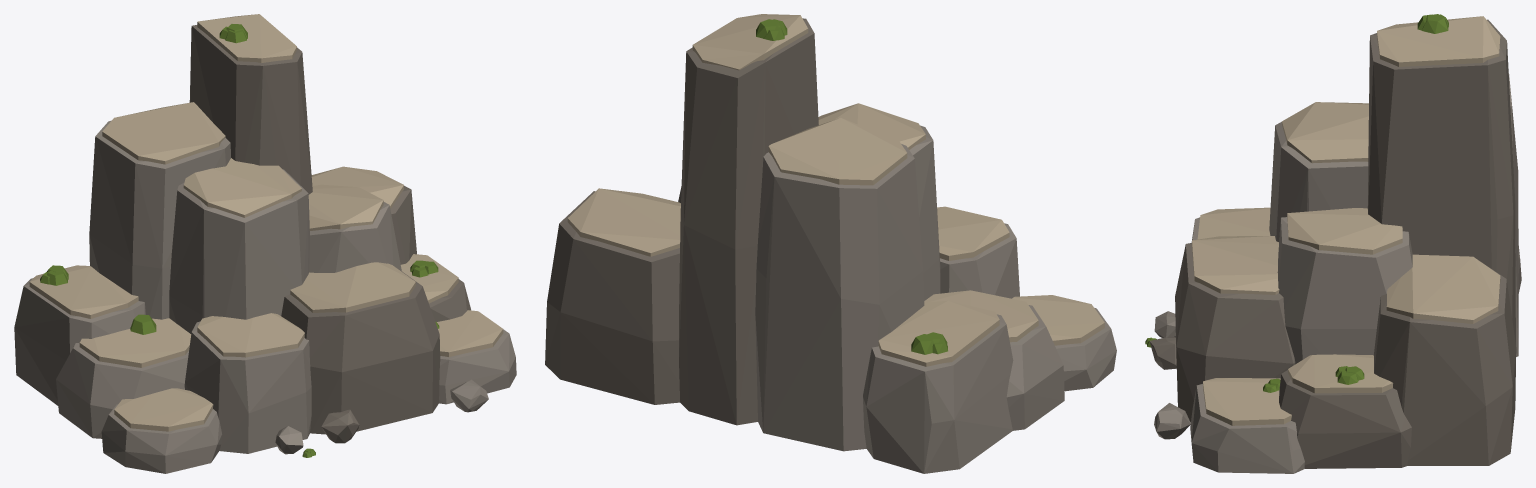
The model's file is Cliff_D.fbx.
3 renders of one model, left to right at view 1: azimuth 30°, elevation 25°; view 2: azimuth 150°, elevation 25°; view 3: azimuth 270°, elevation 25°, orthographic. The views are drawn at different scales.
Visible parts, largest first — view 1: Cliff, RockLight, CliffDark, Moss; view 2: Cliff, CliffDark, RockLight, Moss; view 3: CliffDark, RockLight, Cliff, Moss.
Part boxes in pixels (box(x1,y1,x2,y2)): Cliff: box(14, 120, 516, 473); RockLight: box(29, 14, 503, 431); CliffDark: box(189, 25, 470, 443); Moss: box(40, 24, 439, 457); Cliff: box(678, 125, 1116, 473); CliffDark: box(545, 18, 818, 425); RockLight: box(567, 14, 1104, 366); Moss: box(756, 19, 947, 354); CliffDark: box(1149, 19, 1516, 468); RockLight: box(1192, 16, 1500, 425); Cliff: box(1154, 73, 1521, 473); Moss: box(1145, 14, 1448, 392).
Size of the model in its own units: 18.41 by 14.38 by 13.79.
